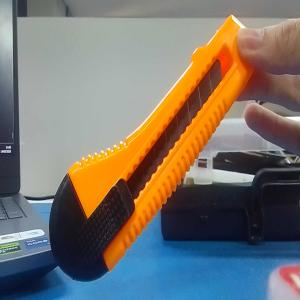estilete: (49, 14, 256, 283)
